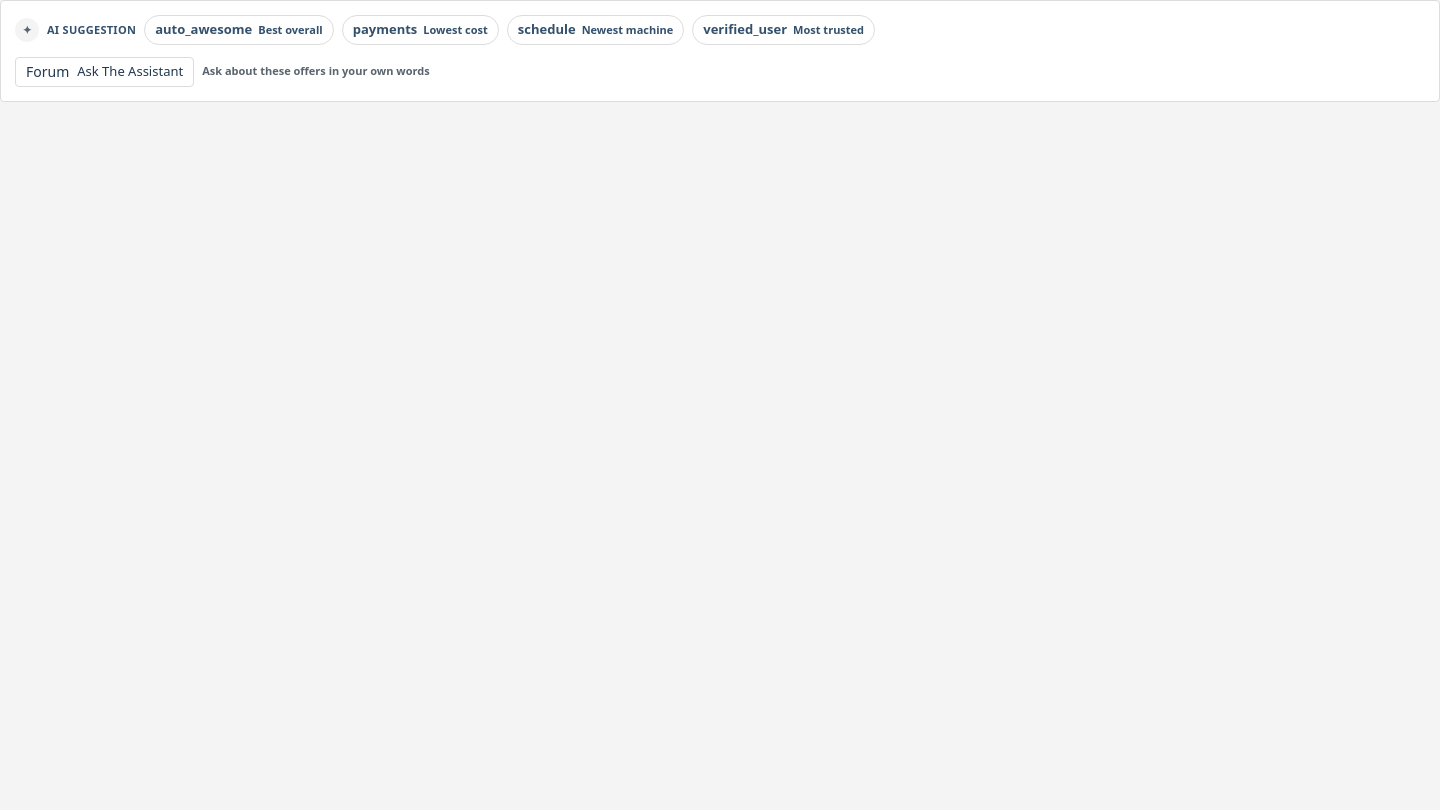
Scenario: the conversation lives in its own panel › opens a panel with the box in it, and closes again
The image size is (1440, 810).
Click the button "forum Ask the assistant".
click(105, 72)  # box 15,56 -> 194,86
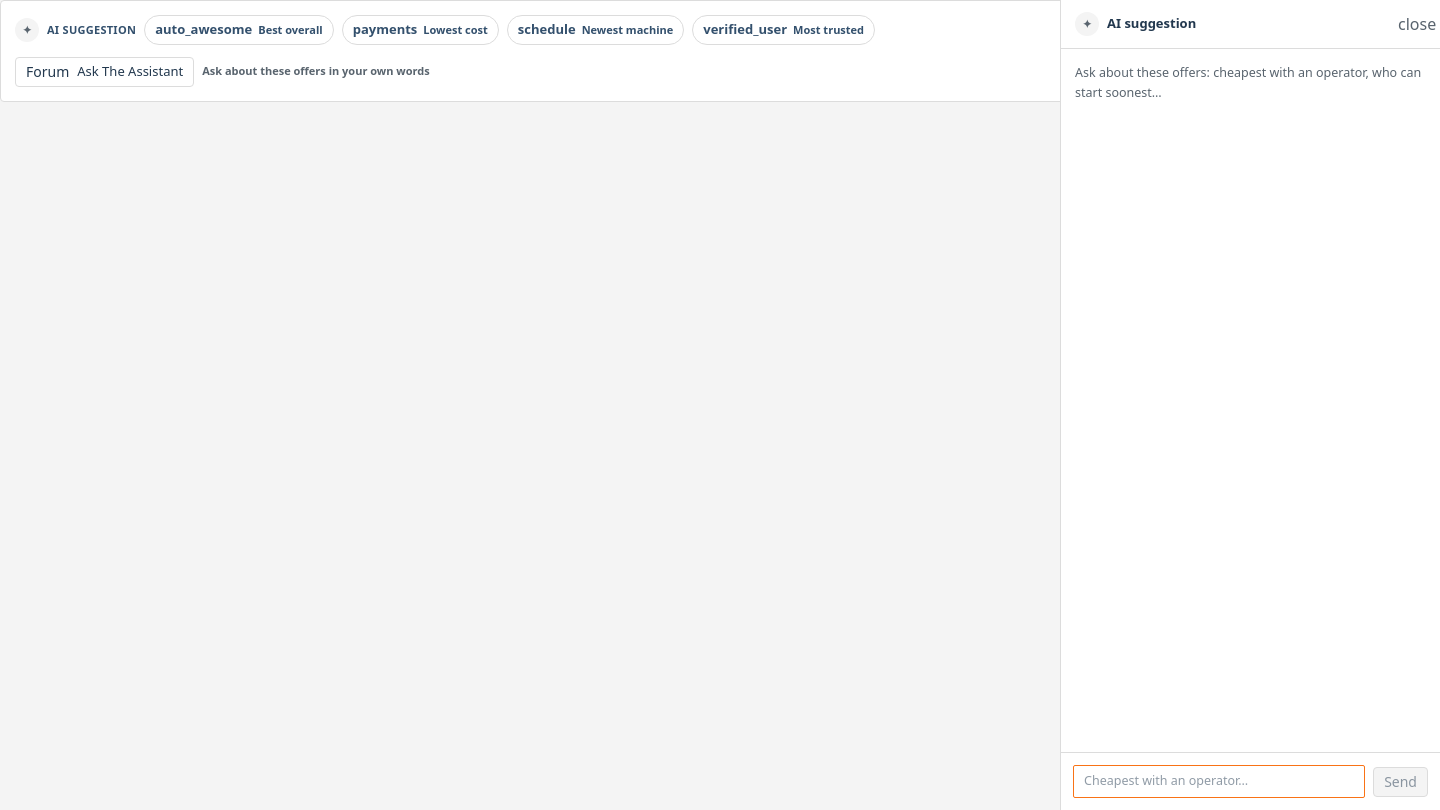
Expected: the dialog is shown, 1060,0 -> 1439,809
Expected: the field is shown, 1073,765 -> 1365,798
Click the button labelled "close".
click(1412, 24)  # box 1398,10 -> 1426,38
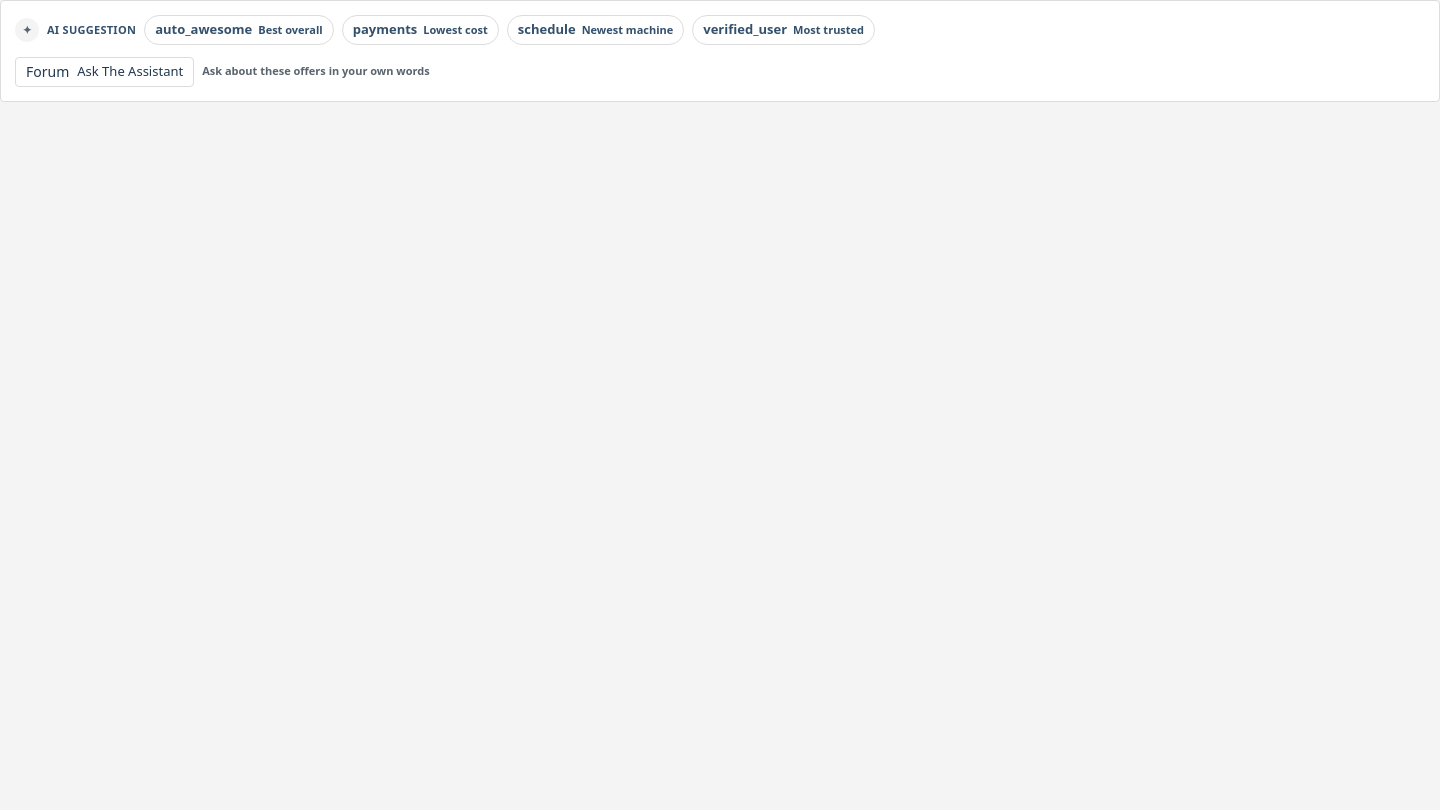
Expected: the dialog is gone
